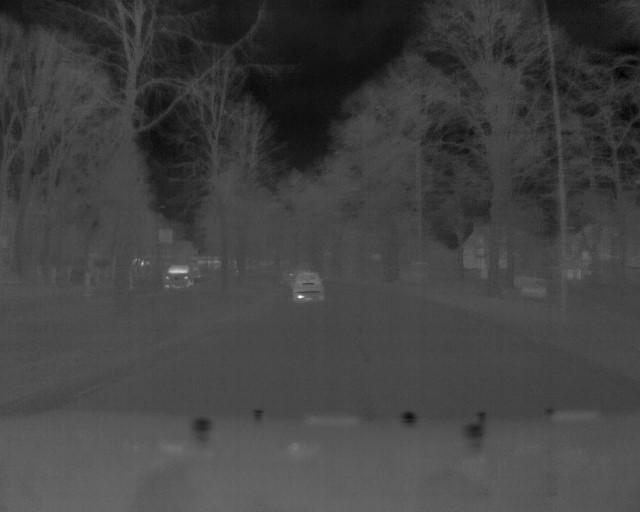car: (290, 270, 327, 305), (162, 262, 194, 290)
